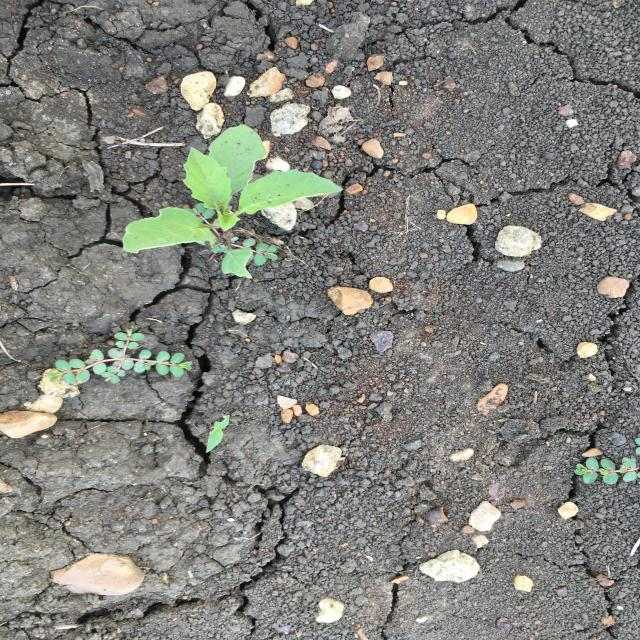CutleafGroundcherry: (120, 123, 346, 280)
SpottedSpurge: (45, 326, 194, 386), (183, 202, 279, 266), (573, 431, 639, 486)
